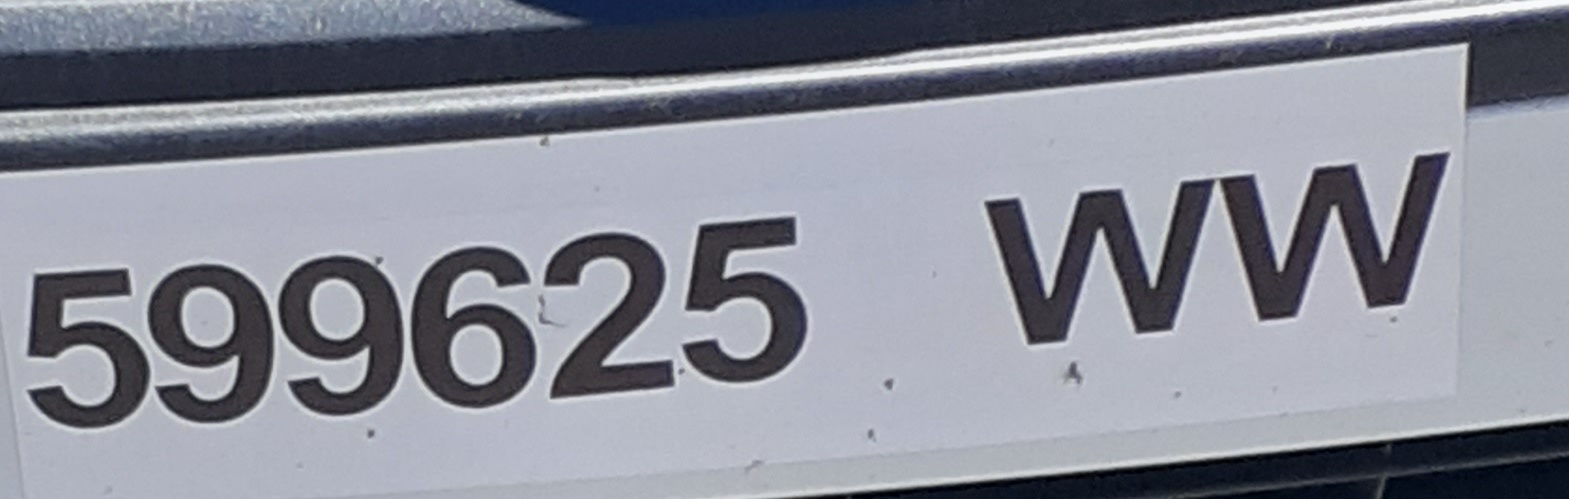2: (539, 208, 678, 435)
5: (676, 185, 831, 411), (14, 256, 153, 439)
6: (412, 226, 539, 428)
9: (273, 240, 410, 435), (146, 247, 275, 444)
w: (1220, 131, 1467, 340), (963, 157, 1217, 347)
